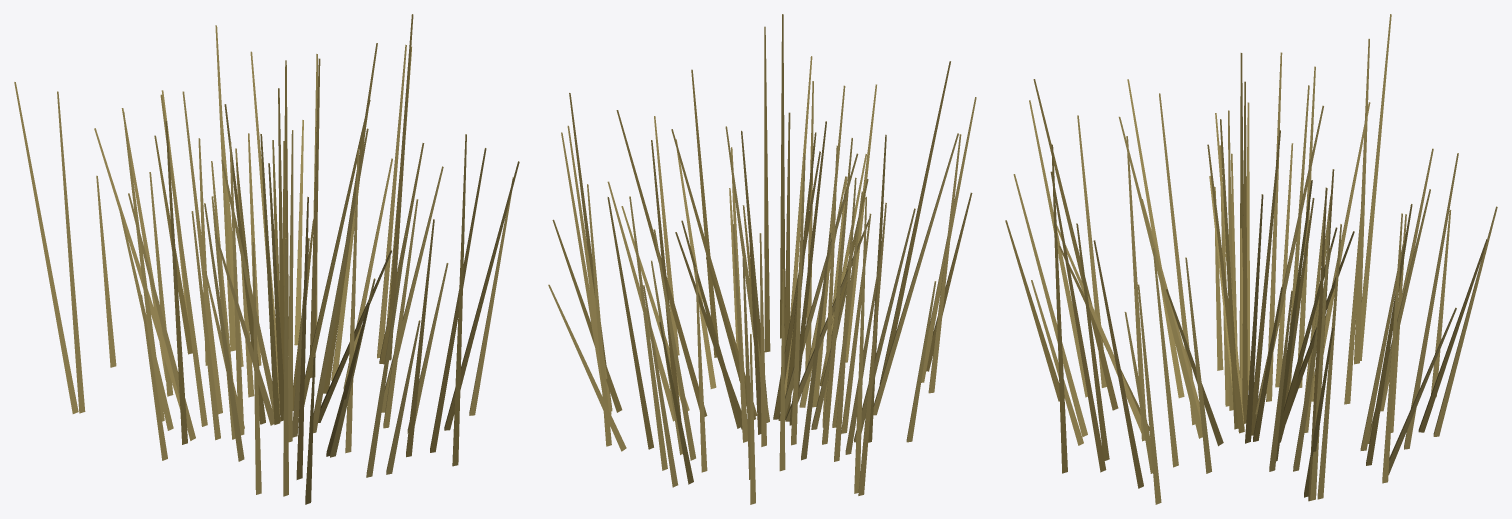
Rendered from a2f_dry_grass.glb.
The picture shows the model from 3 angles, left to right: view 1: azimuth 30°, elevation 25°; view 2: azimuth 150°, elevation 25°; view 3: azimuth 270°, elevation 25°; orthographic projection. The views are drawn at different scales.
Visible parts, largest first — view 1: a2f_dry_grass; view 2: a2f_dry_grass; view 3: a2f_dry_grass.
Part boxes in pixels (x1=…): a2f_dry_grass: x1=14, y1=14, x2=519, y2=504; a2f_dry_grass: x1=548, y1=14, x2=976, y2=504; a2f_dry_grass: x1=1005, y1=14, x2=1497, y2=504.
Size of the model in its own units: 1.66 by 1.4 by 1.88.
